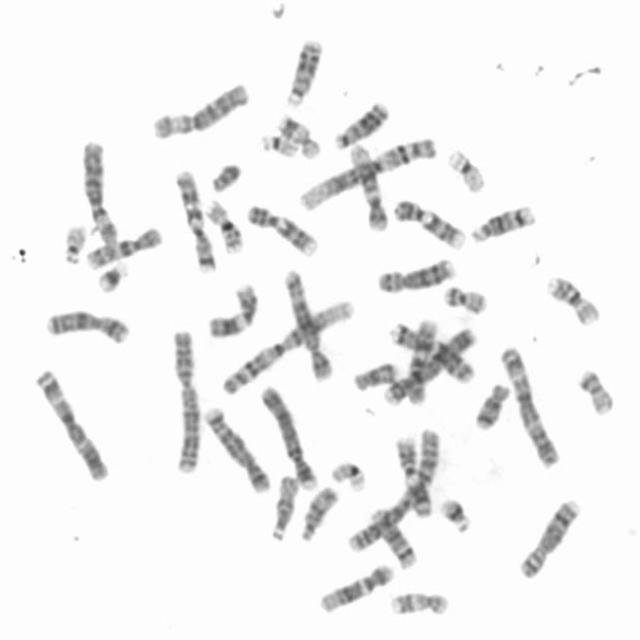A1: (215, 293, 358, 397), (294, 130, 439, 213)
A2: (342, 422, 444, 554), (167, 322, 203, 475)
A3: (30, 362, 112, 482), (495, 339, 563, 468)
B4: (379, 321, 478, 406), (256, 379, 320, 491)
B5: (199, 400, 273, 495), (278, 262, 335, 383)
C10: (80, 220, 165, 271), (401, 313, 440, 406)
C11: (389, 429, 434, 518), (203, 277, 261, 340)
C12: (315, 558, 397, 614), (346, 138, 392, 232)
C6: (148, 76, 251, 141), (77, 134, 121, 246)
C7: (385, 317, 476, 385), (170, 163, 218, 274)
C8: (514, 493, 582, 581), (372, 252, 458, 294)
C9: (242, 198, 321, 258), (388, 192, 467, 250)
D13: (330, 95, 392, 150), (281, 32, 325, 107)
D14: (366, 503, 419, 570), (466, 198, 539, 244)
D15: (296, 480, 341, 543), (266, 468, 301, 542)
E16: (543, 269, 603, 327), (201, 194, 247, 255)
E17: (274, 109, 323, 160), (386, 585, 451, 618)
E18: (470, 376, 513, 432), (348, 356, 402, 392)
F19: (443, 143, 488, 195), (327, 455, 368, 493)
F20: (573, 363, 618, 417), (439, 278, 490, 315)
G21: (435, 491, 474, 534), (92, 255, 132, 294)
G22: (59, 219, 90, 265), (256, 128, 301, 159)
X: (42, 304, 133, 346)
Y: (206, 156, 244, 194)
